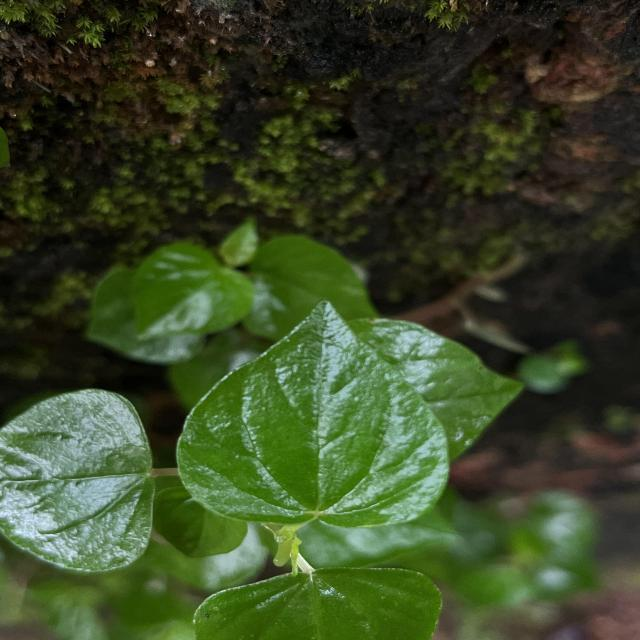Peperomia pellucida: (173, 294, 454, 534)
